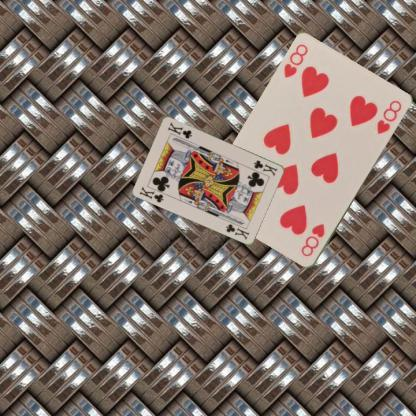8h: (298, 221, 327, 258), (281, 42, 309, 80)
Kc: (137, 184, 165, 204), (251, 158, 278, 178)
